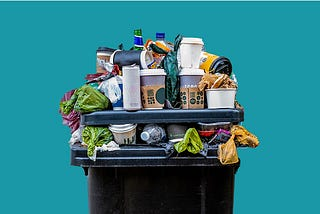bin_full: (58, 28, 262, 214)
